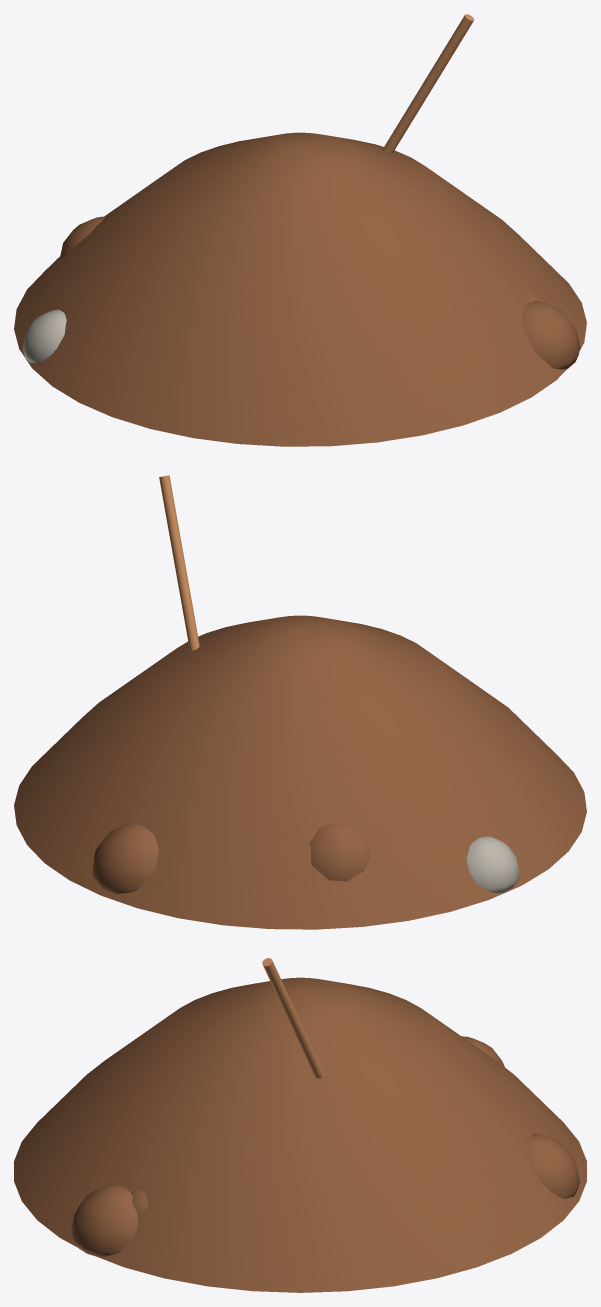
The model's file is dirt_pile.glb.
3 views of the same model, one above another, from view 1: azimuth 30°, elevation 25°; view 2: azimuth 150°, elevation 25°; view 3: azimuth 270°, elevation 25° (orthographic).
Parts seen in each view (by area): view 1: dirt_pile; view 2: dirt_pile; view 3: dirt_pile.
Part boxes in pixels (x1,y1,x2,y2): dirt_pile: (14, 14, 586, 446); dirt_pile: (14, 475, 586, 929); dirt_pile: (14, 958, 586, 1292).
Bounding box in the file's own units: 3.2 × 1.76 × 3.19.
Materials: 1 (1 with a texture image).
